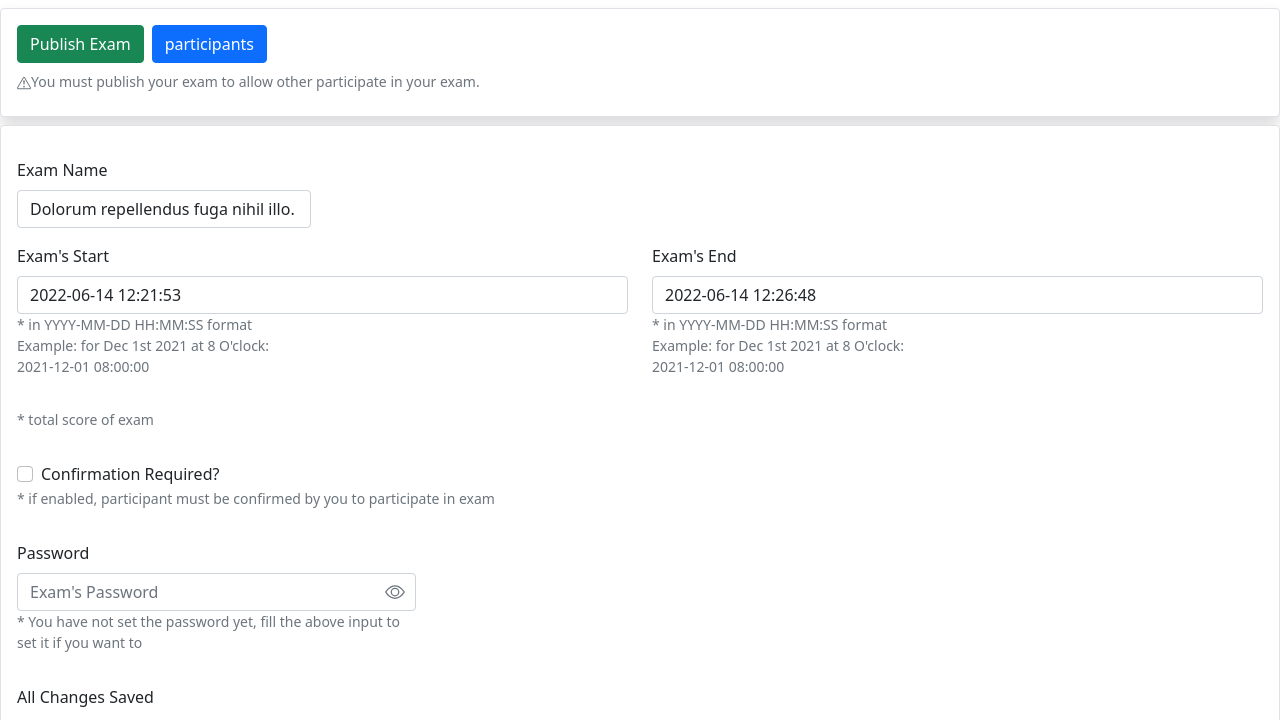
user can not publish his exam if there is any error and he will see the error
The width and height of the screenshot is (1280, 720).
// find and click publish button
Click the button "Publish Exam" at (80, 44), box x1=17 y1=25 x2=144 y2=63
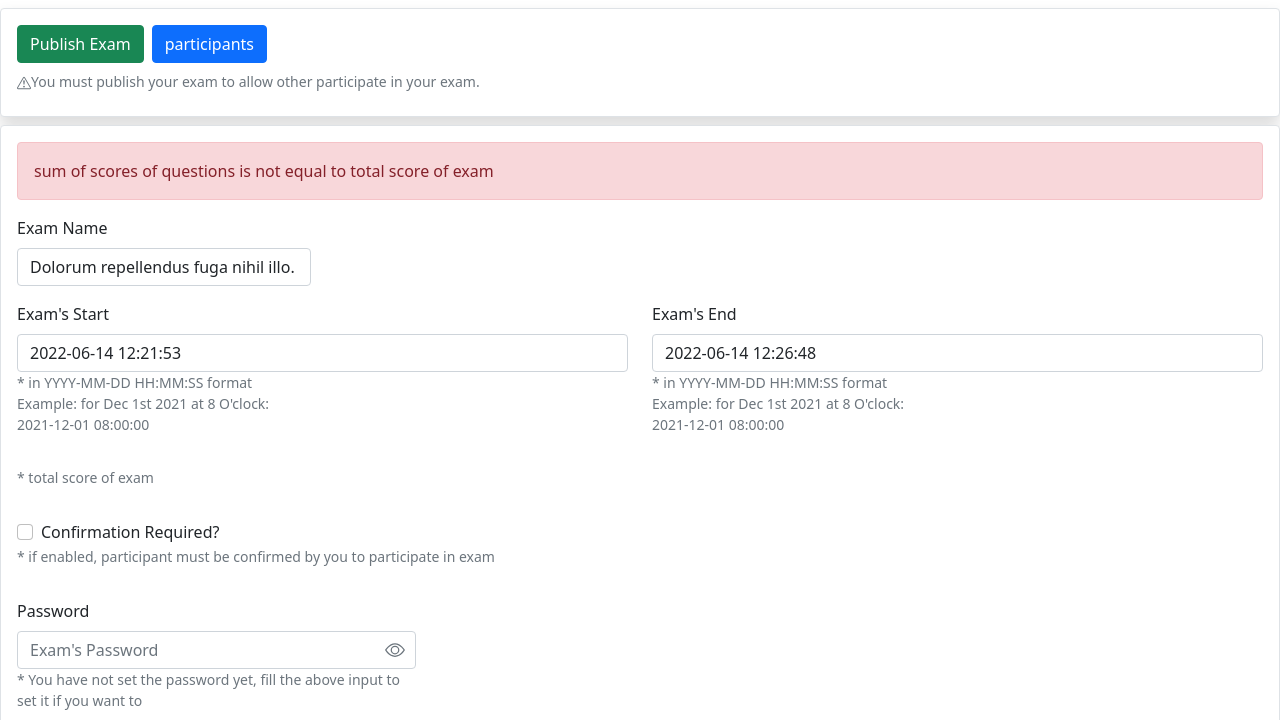
Expected: the text "sum of scores of questions is not equal to total score of exam" is shown, x1=17 y1=142 x2=1263 y2=200
